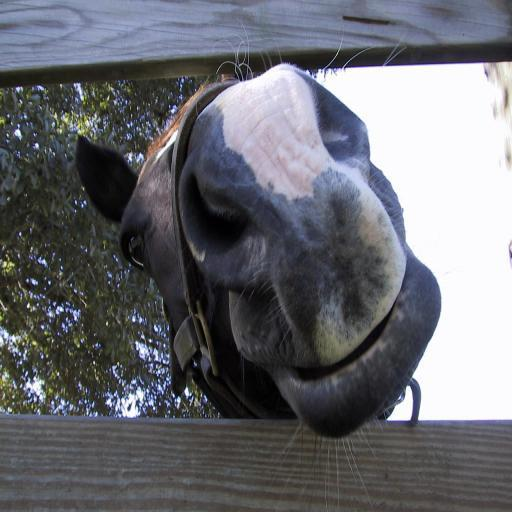horse: (74, 18, 442, 511)
